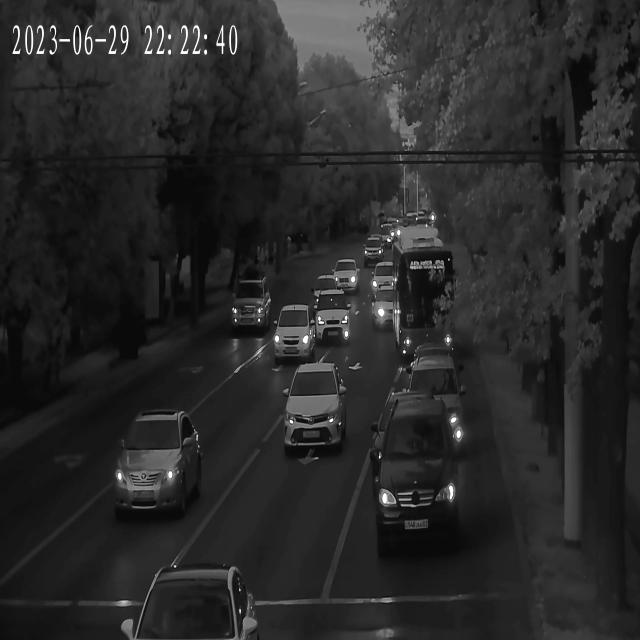Bus: (396, 232, 456, 362)
Car: (370, 398, 461, 531), (108, 412, 204, 522), (128, 562, 256, 636), (391, 365, 466, 460), (278, 362, 346, 449), (405, 356, 466, 410), (272, 309, 320, 365), (310, 287, 354, 341), (228, 281, 272, 333), (407, 344, 460, 386), (400, 326, 452, 366), (314, 276, 354, 314), (374, 293, 404, 332), (370, 264, 401, 294), (332, 261, 361, 292), (362, 240, 384, 262), (370, 233, 392, 250)
